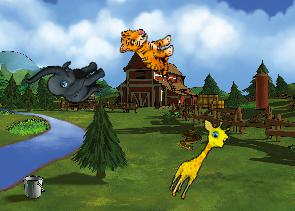elephant: (23, 37, 112, 123)
giraffe: (165, 113, 234, 207)
tiger: (118, 27, 175, 75)
